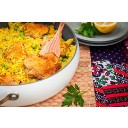briyani: (1, 26, 72, 79)
